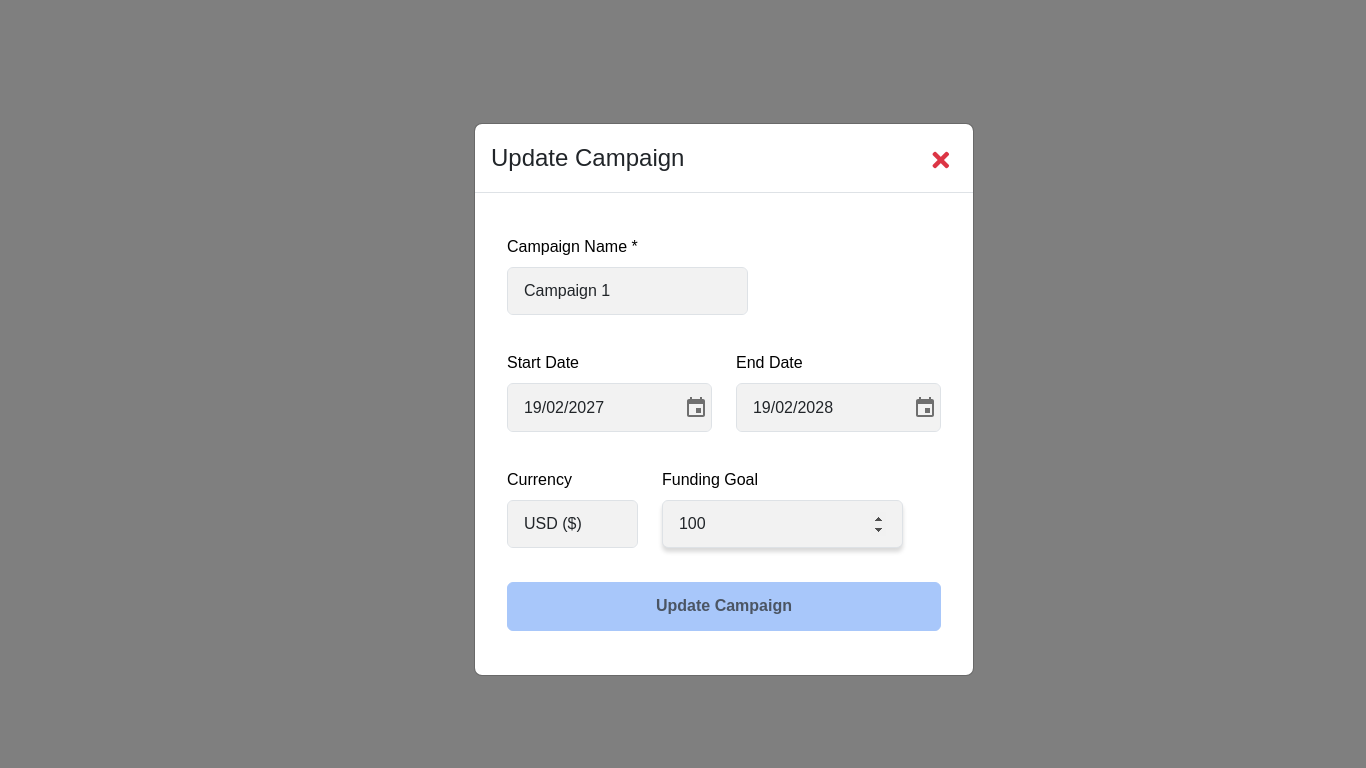
Scenario: CampaignModal › should set fundingGoal to 0 when field is cleared
Clear the number field with test id "fundingGoalInput" at [782, 524], box x1=662 y1=500 x2=903 y2=548
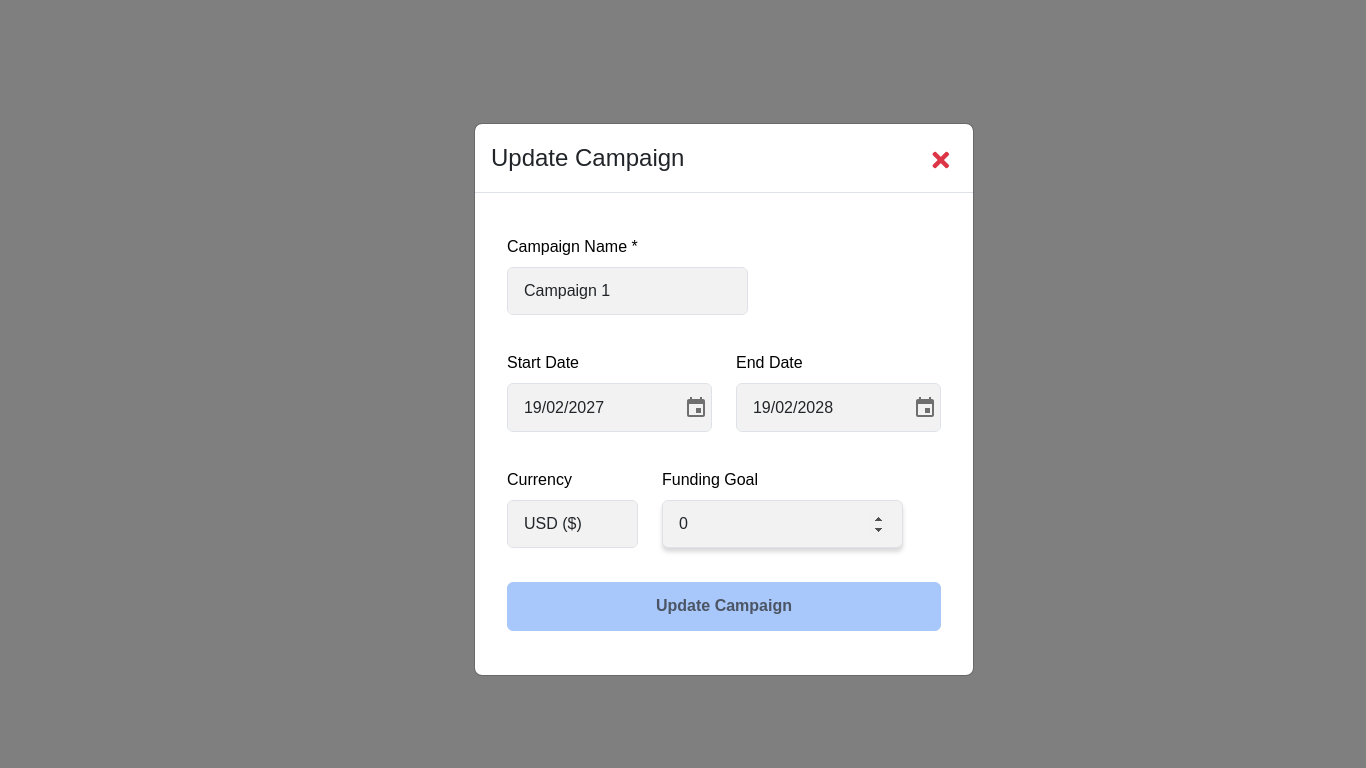
Expected: the number field with test id "fundingGoalInput" holds "0", x1=662 y1=500 x2=903 y2=548
